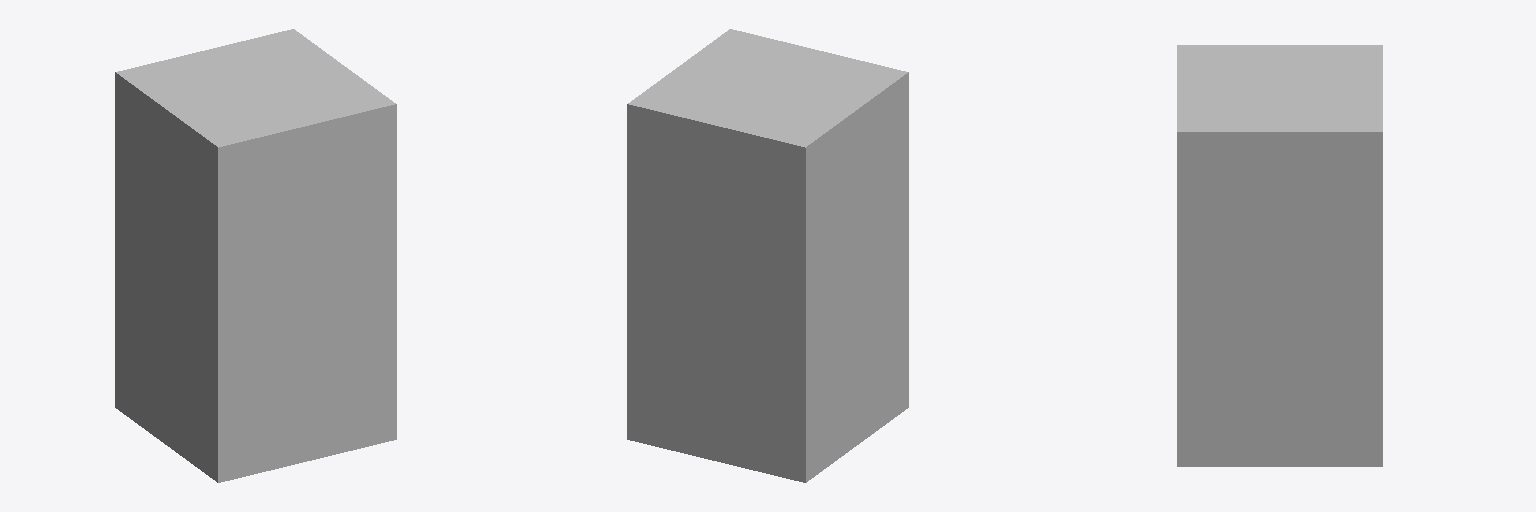
Rendered from playerHitBox.obj.
3 renders of one model, left to right at view 1: azimuth 30°, elevation 25°; view 2: azimuth 150°, elevation 25°; view 3: azimuth 270°, elevation 25°, orthographic.
Parts seen in each view (by area): view 1: pCube1; view 2: pCube1; view 3: pCube1.
Part boxes in pixels (bbox=[...]): pCube1: bbox=[115, 29, 396, 482]; pCube1: bbox=[627, 29, 908, 482]; pCube1: bbox=[1177, 45, 1382, 466].
Size of the model in its own units: 1 by 1.8 by 1.